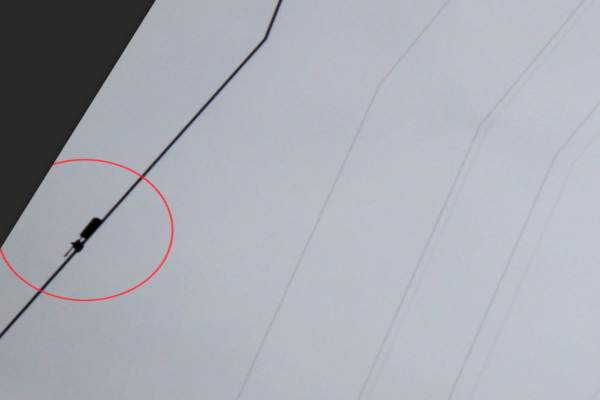damper_defect: (61, 216, 101, 259)
